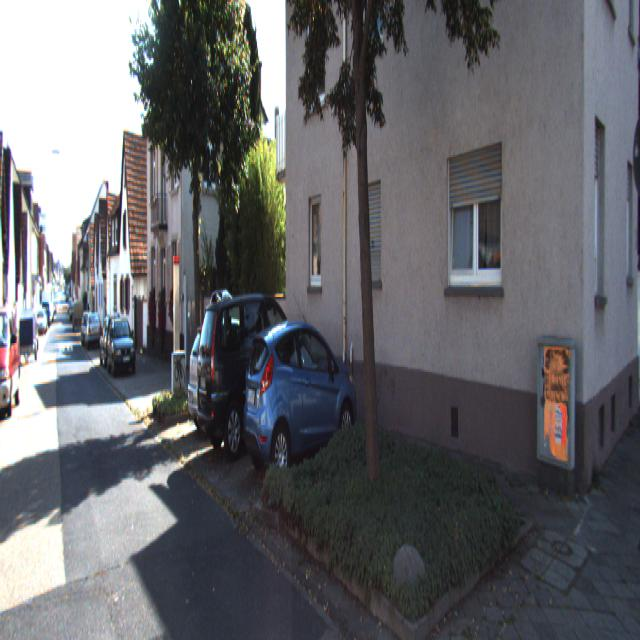Car: (188, 290, 314, 469), (240, 315, 358, 484), (108, 320, 138, 380)
